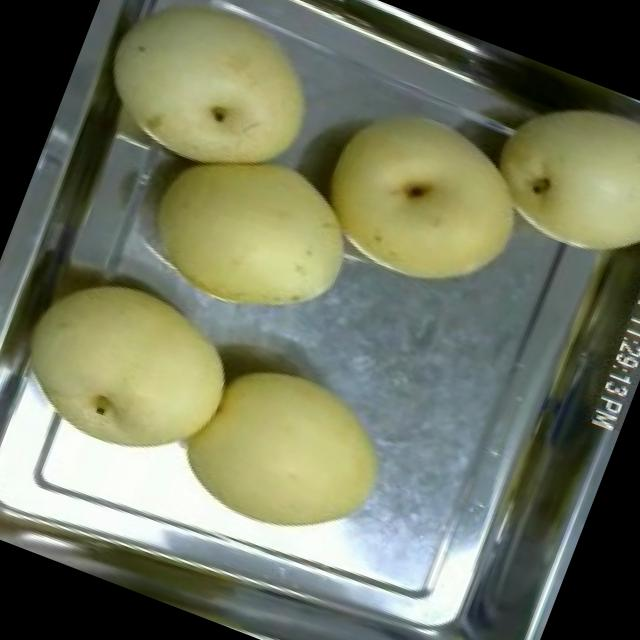Fruit: (0, 241, 267, 491), (296, 78, 554, 319), (158, 332, 414, 572), (125, 116, 382, 348), (75, 0, 351, 208), (466, 57, 640, 292)
